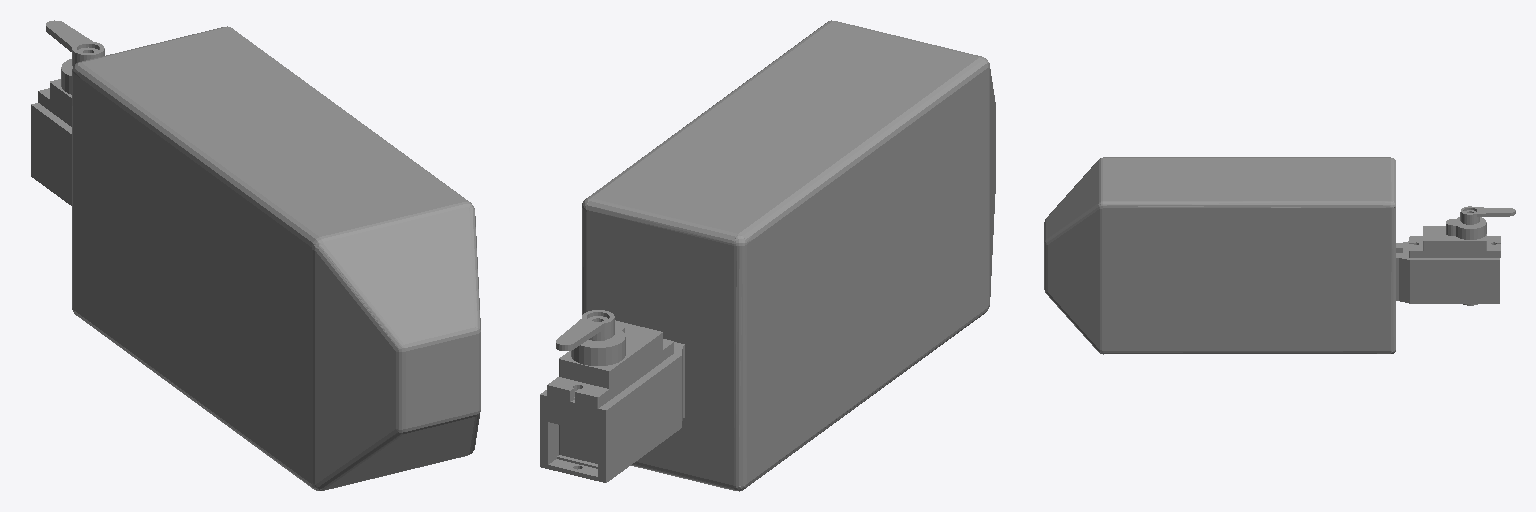
robot.urdf — fish:
<?xml version="1.0" encoding="utf-8"?>
<!-- This URDF was automatically created by SolidWorks to URDF Exporter! Originally created by [author] ([email redacted]) 
     Commit Version: 1.6.0-4-g7f85cfe  Build Version: 1.6.7995.38578
     For more information, please see http://wiki.ros.org/sw_urdf_exporter -->
<robot
  name="fish">
  <link
    name="base_link">
    <inertial>
      <origin
        xyz="9.85895449438687E-10 -0.00018605636510037 0.100990087597901"
        rpy="0 0 0" />
      <mass
        value="0.0153278250634477" />
      <inertia
        ixx="4.87410825907015E-06"
        ixy="2.11122880109933E-13"
        ixz="2.70685541787838E-15"
        iyy="2.25933313331448E-06"
        iyz="-4.35275611612696E-08"
        izz="6.91219190318951E-06" />
    </inertial>
    <visual>
      <origin
        xyz="0 0 0"
        rpy="0 0 0" />
      <geometry>
        <mesh
          filename="package://fish/meshes/base_link.STL" />
      </geometry>
      <material
        name="">
        <color
          rgba="0.627450980392157 0.627450980392157 0.627450980392157 1" />
      </material>
    </visual>
    <collision>
      <origin
        xyz="0 0 0"
        rpy="0 0 0" />
      <geometry>
        <mesh
          filename="package://fish/meshes/base_link.STL" />
      </geometry>
    </collision>
  </link>
</robot>

--- Render facts (derived) ---
Views: 3 orthographic renders of the robot side by side, from view 1: azimuth 30°, elevation 25°; view 2: azimuth 150°, elevation 25°; view 3: azimuth 270°, elevation 25°.
Model fish with 1 links and 0 joints (none), rooted at base_link, posed every joint at zero.
Links seen in each view (by area): view 1: base_link; view 2: base_link; view 3: base_link.
Boxes of the visible links, <box> form: base_link: <box>31,20,480,490</box>; base_link: <box>540,20,995,491</box>; base_link: <box>1044,157,1515,354</box>.
Bounding box of the posed robot: 0.04 × 0.1673 × 0.06 m (x, y, z).
1 mesh visuals loaded from 1 distinct referenced files (1 binary STL).